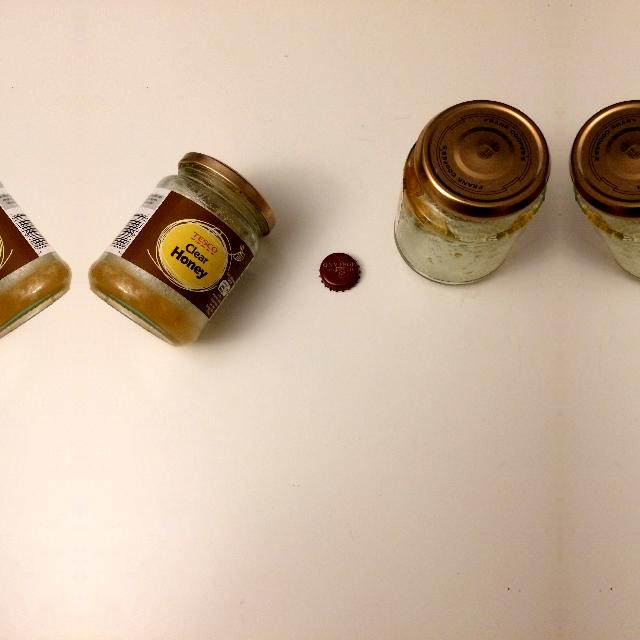Glass: (85, 140, 289, 364), (386, 97, 558, 293), (0, 140, 75, 363), (561, 97, 640, 293)
Metal: (310, 243, 372, 305)
